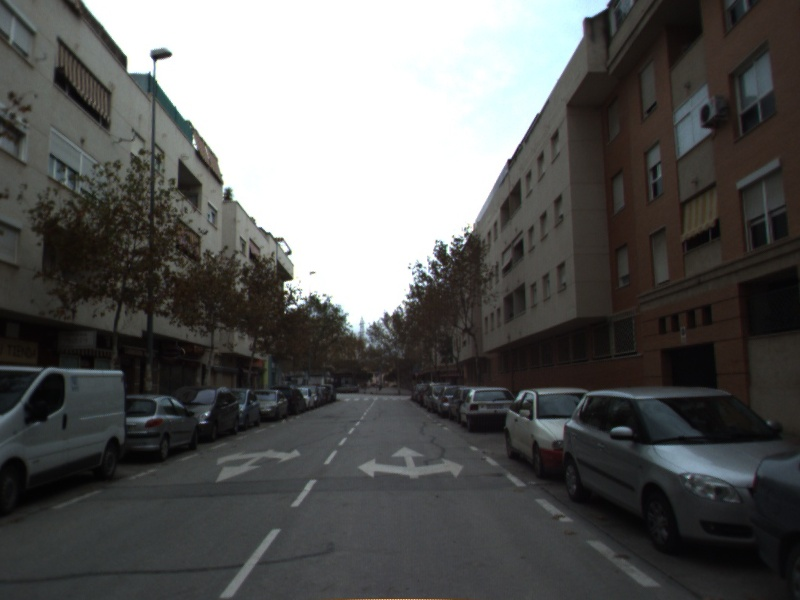STRAIGHT_LEFT_RIGHT: (355, 444, 467, 480)
